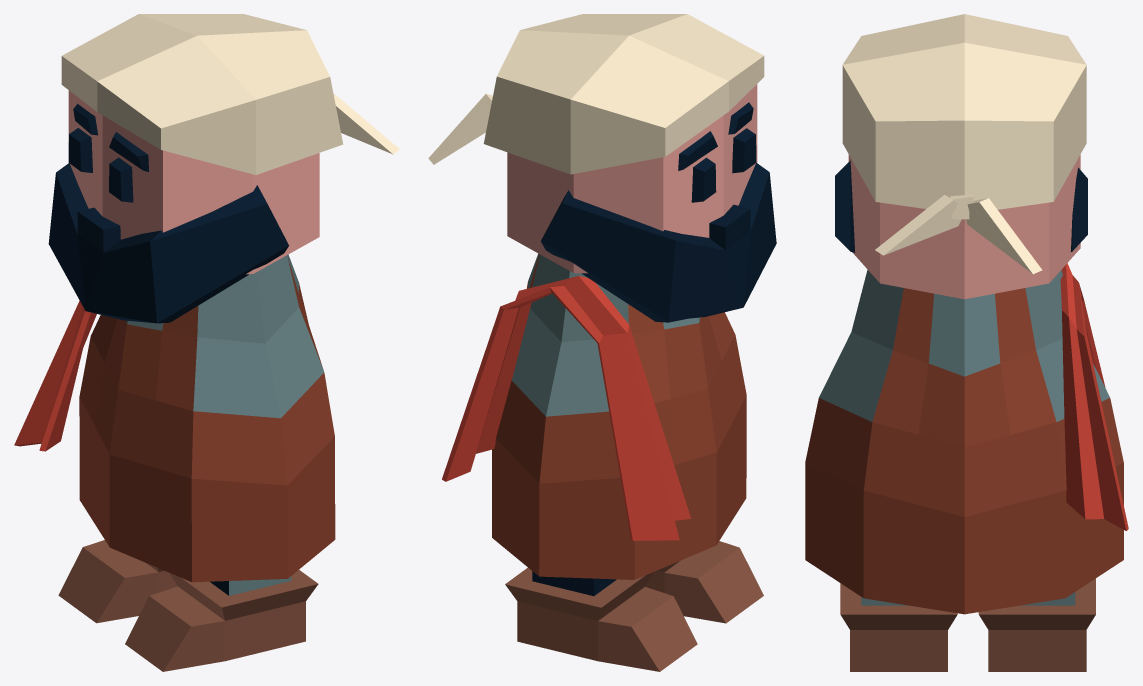
Rendered from SK_Innkeeper.fbx.
3 views of the same model, side by side, from view 1: azimuth 30°, elevation 25°; view 2: azimuth 150°, elevation 25°; view 3: azimuth 270°, elevation 25° (orthographic). The views are drawn at different scales.
Visible parts, largest first — view 1: SK_Innkeeper; view 2: SK_Innkeeper; view 3: SK_Innkeeper.
Part boxes in pixels (box(x1,y1,x2,y2)): SK_Innkeeper: box(14, 14, 399, 671); SK_Innkeeper: box(428, 14, 776, 671); SK_Innkeeper: box(805, 14, 1128, 671).
Bounding box in the file's own units: 68.78 × 133 × 64.83.
